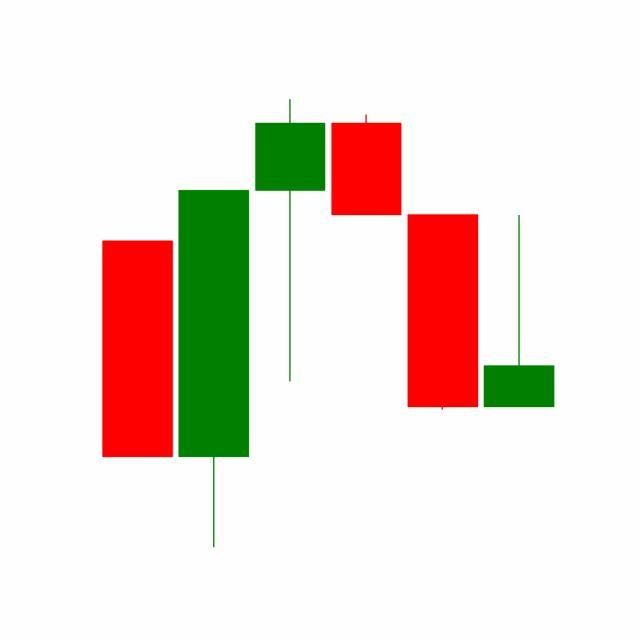Marubozu: (404, 212, 482, 413)
